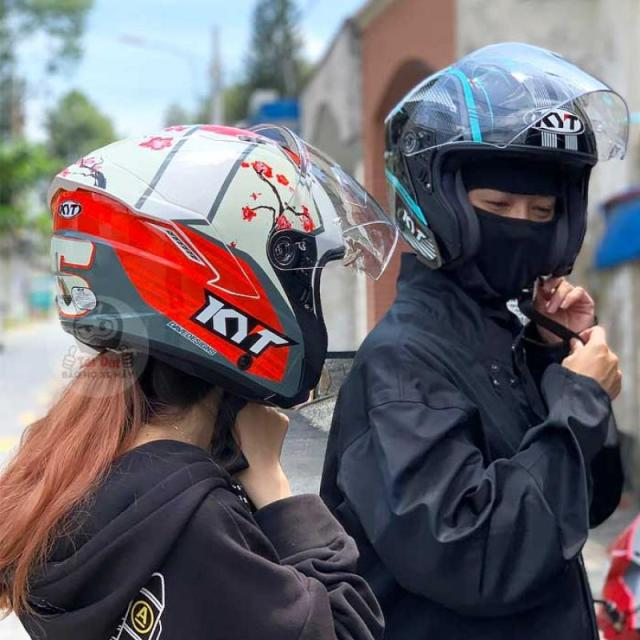Full-face-helmet: (45, 122, 401, 409)
